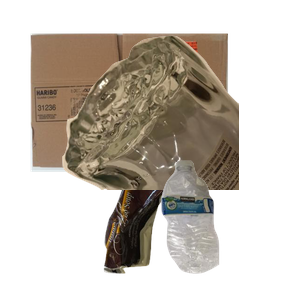cardboard: (28, 31, 249, 195)
glass: (60, 33, 300, 213)
plastic: (159, 158, 300, 300)
trash: (101, 157, 270, 300)
